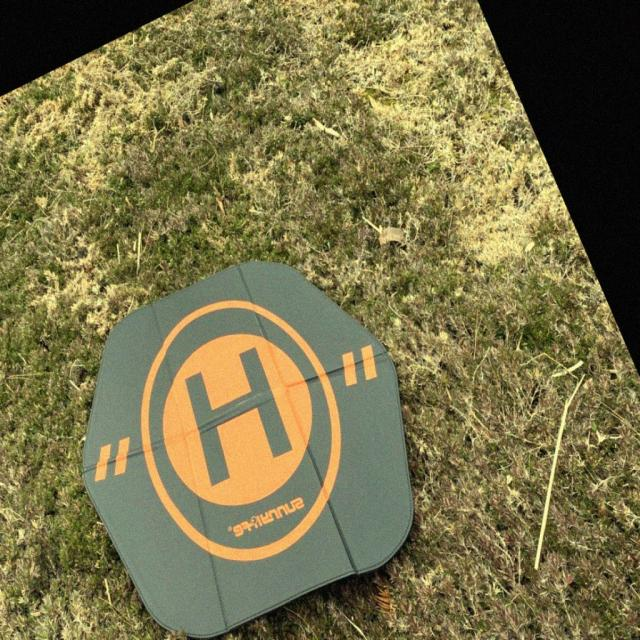helipad: (134, 294, 345, 564)
